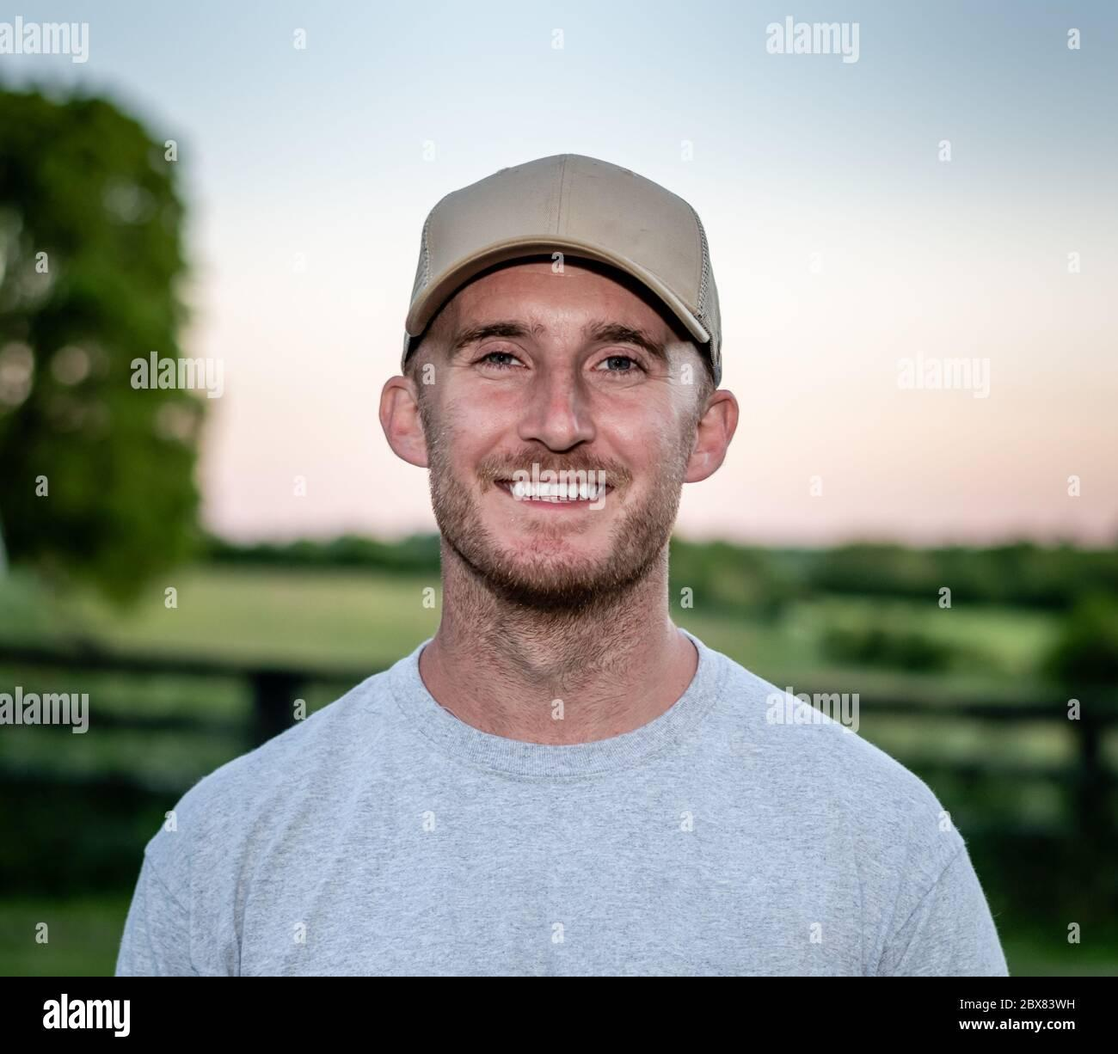cap: (378, 132, 759, 407)
